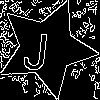J: (21, 23, 52, 71)
